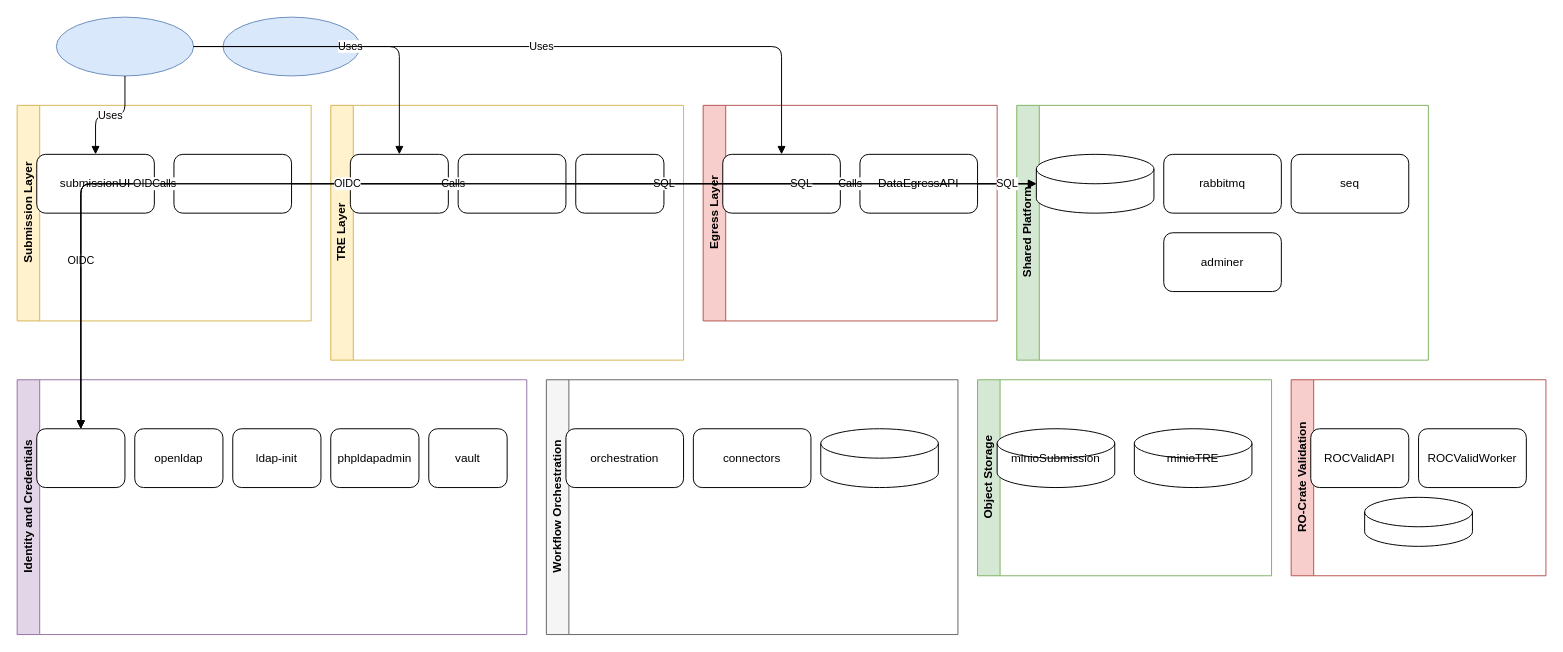
Image size: 1563x652. Some labels were removed from this diagram. The centre of each missing label's shape, as x and y in pixels:
"DataEgressUI" belongs at (781,183).
"elasticsearch" belongs at (879,458).
"keycloak" belongs at (80,458).
"Platform Admin" belongs at (291,46).
"postgresql" belongs at (1094,183).
"redis" belongs at (1418,521).
"Research User" belongs at (124,46).
"submissionAPI" belongs at (232,183).
"tre-api" belongs at (511,183).
"TRE-Camunda" belongs at (619,183).
"tre-ui" belongs at (398,183).
